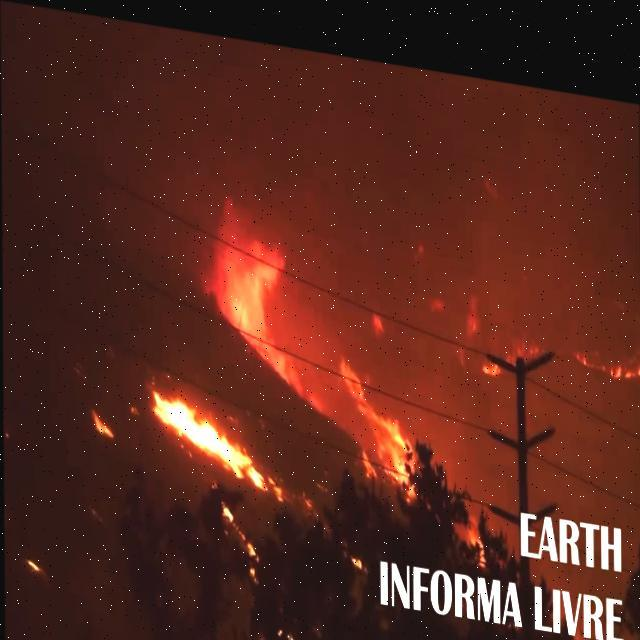Fire: (338, 351, 417, 483), (150, 384, 256, 472), (210, 476, 262, 574), (476, 307, 544, 366), (570, 318, 639, 363), (88, 404, 116, 441)
